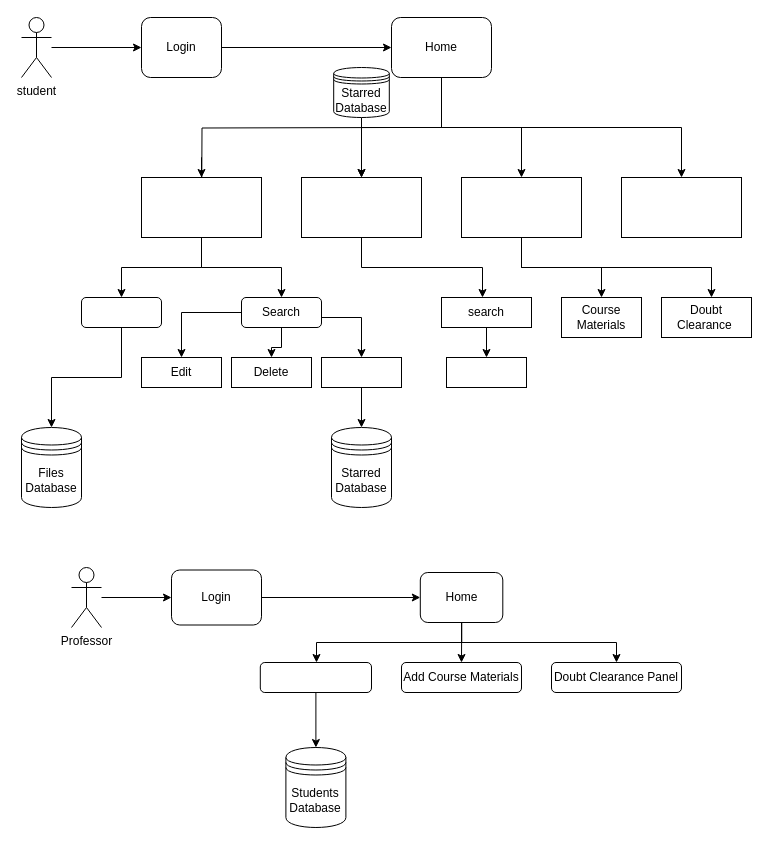
Image size: 769x845. Some labels were removed from this diagram. Here are the shapes that lost their labels. From the top down, the centre of each, then its label:
At point (201, 207): "My FIles".
At point (361, 207): "Starred".
At point (521, 207): "Prof Notes".
At point (681, 207): "Logout".
At point (121, 312): "Add New".
At point (361, 372): "Star".
At point (486, 372): "Unstar".
At point (315, 677): "Add New Student".
